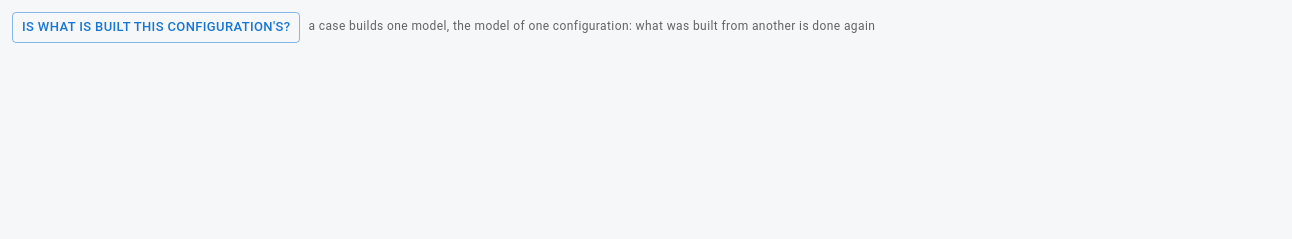
Test case: what saving the draft would cost › asks of the saved case whether what is built is its own, and says what is still waiting
Click the button with test id "consequences-check" at point(156, 27), box [12,12,300,43]
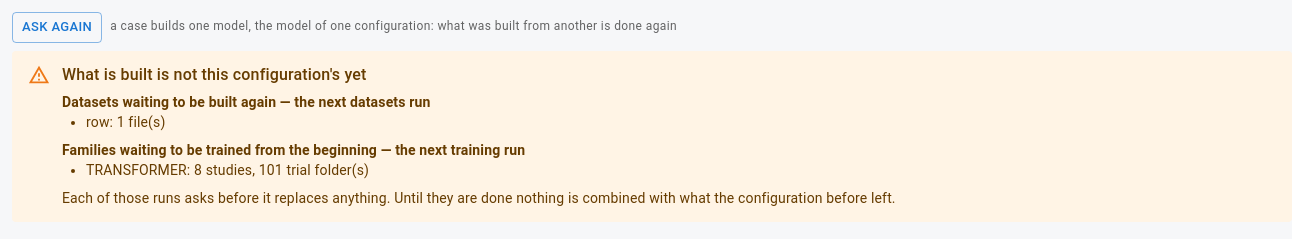
Check: the message with test id "consequences-waiting" shows "What is built is not this configuration's yet", box [62,65,366,84]
Check: the message with test id "consequences-waiting" shows "row: 1 file(s)", box [86,114,165,130]
Check: the message with test id "consequences-waiting" shows "TRANSFORMER: 8 studies, 101 trial folder(s)", box [86,162,369,178]
